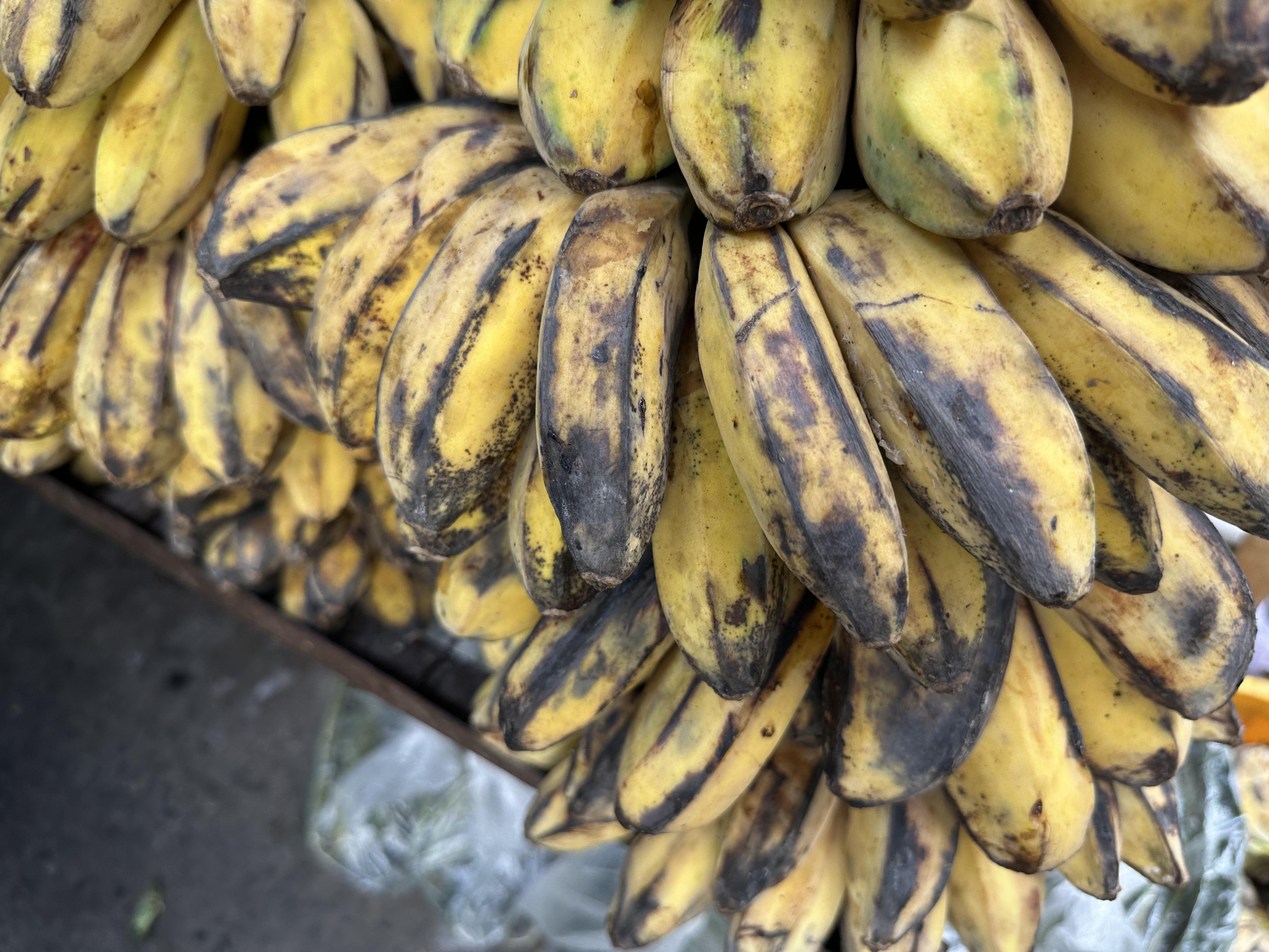ripe: (199, 101, 1269, 698), (439, 527, 1183, 876), (608, 733, 1045, 952), (0, 0, 389, 242), (0, 202, 325, 487)
underripe: (435, 0, 1269, 274)
